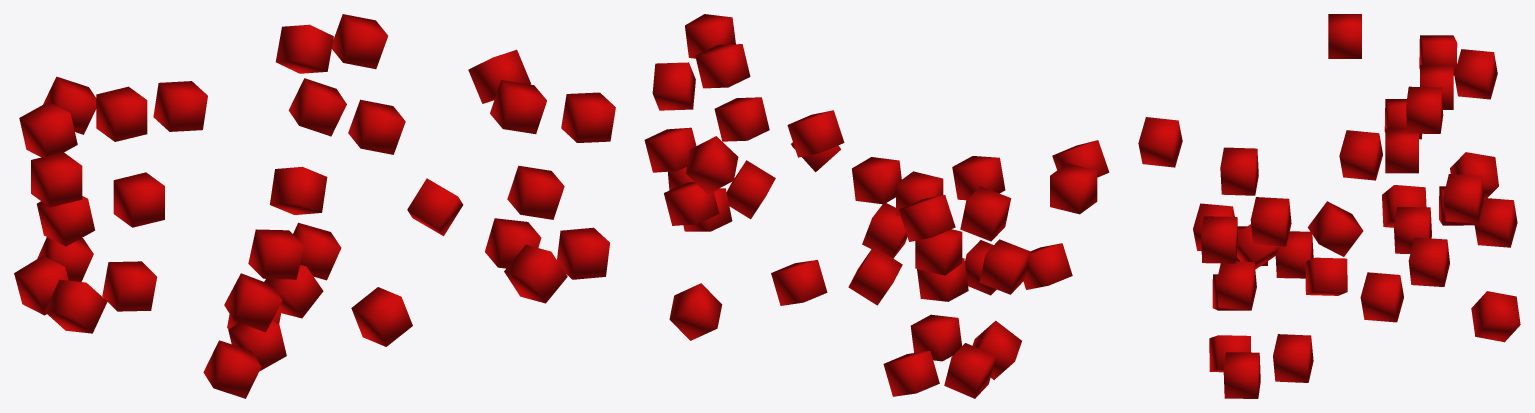
The picture shows the model from 3 angles, left to right: view 1: azimuth 30°, elevation 25°; view 2: azimuth 150°, elevation 25°; view 3: azimuth 270°, elevation 25°; orthographic projection. The views are drawn at different scales.
Parts seen in each view (by area): view 1: Cube.001; view 2: Cube.001; view 3: Cube.001.
Part boxes in pixels (left/top/right/bottom): Cube.001: left=14, top=14, right=615, bottom=398; Cube.001: left=644, top=14, right=1109, bottom=398; Cube.001: left=1138, top=14, right=1520, bottom=398.
Size of the model in its own units: 31.16 by 12.91 by 22.65.
